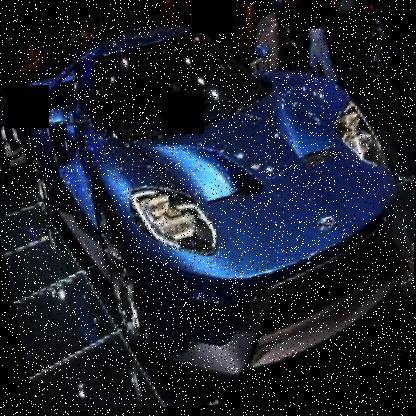not_emergency: (4, 0, 415, 404)
